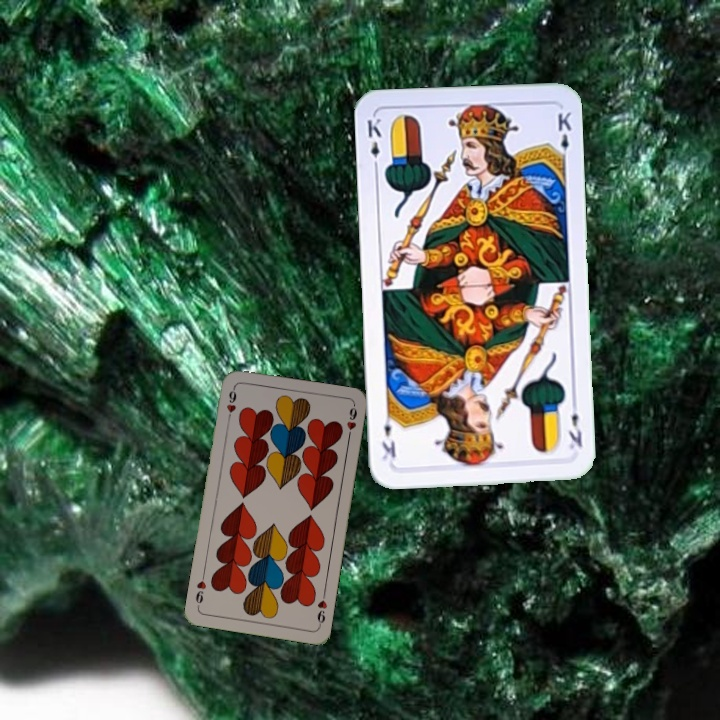EK: (363, 114, 384, 173), (564, 397, 585, 452)
H9: (222, 383, 239, 424), (313, 589, 330, 629)
